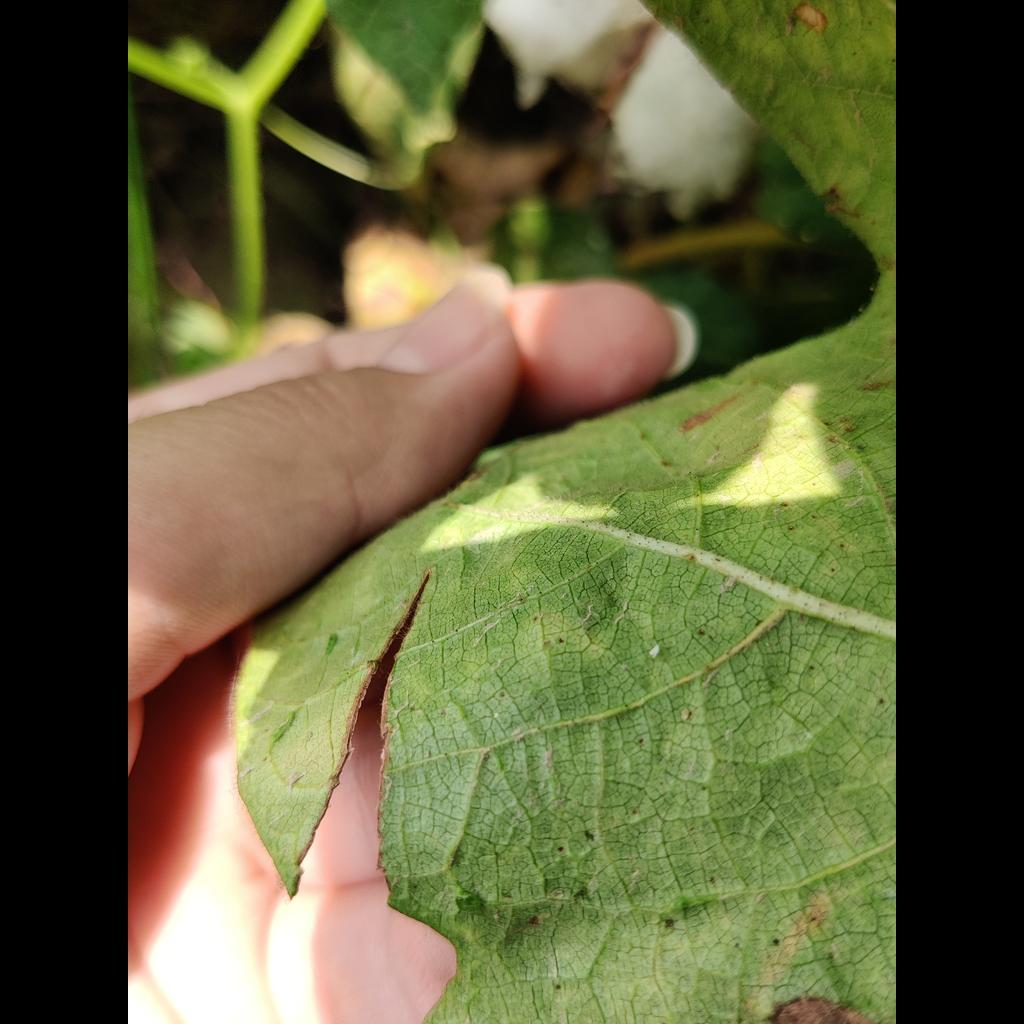adult: (648, 646, 660, 658)
nymph: (680, 708, 690, 721)
